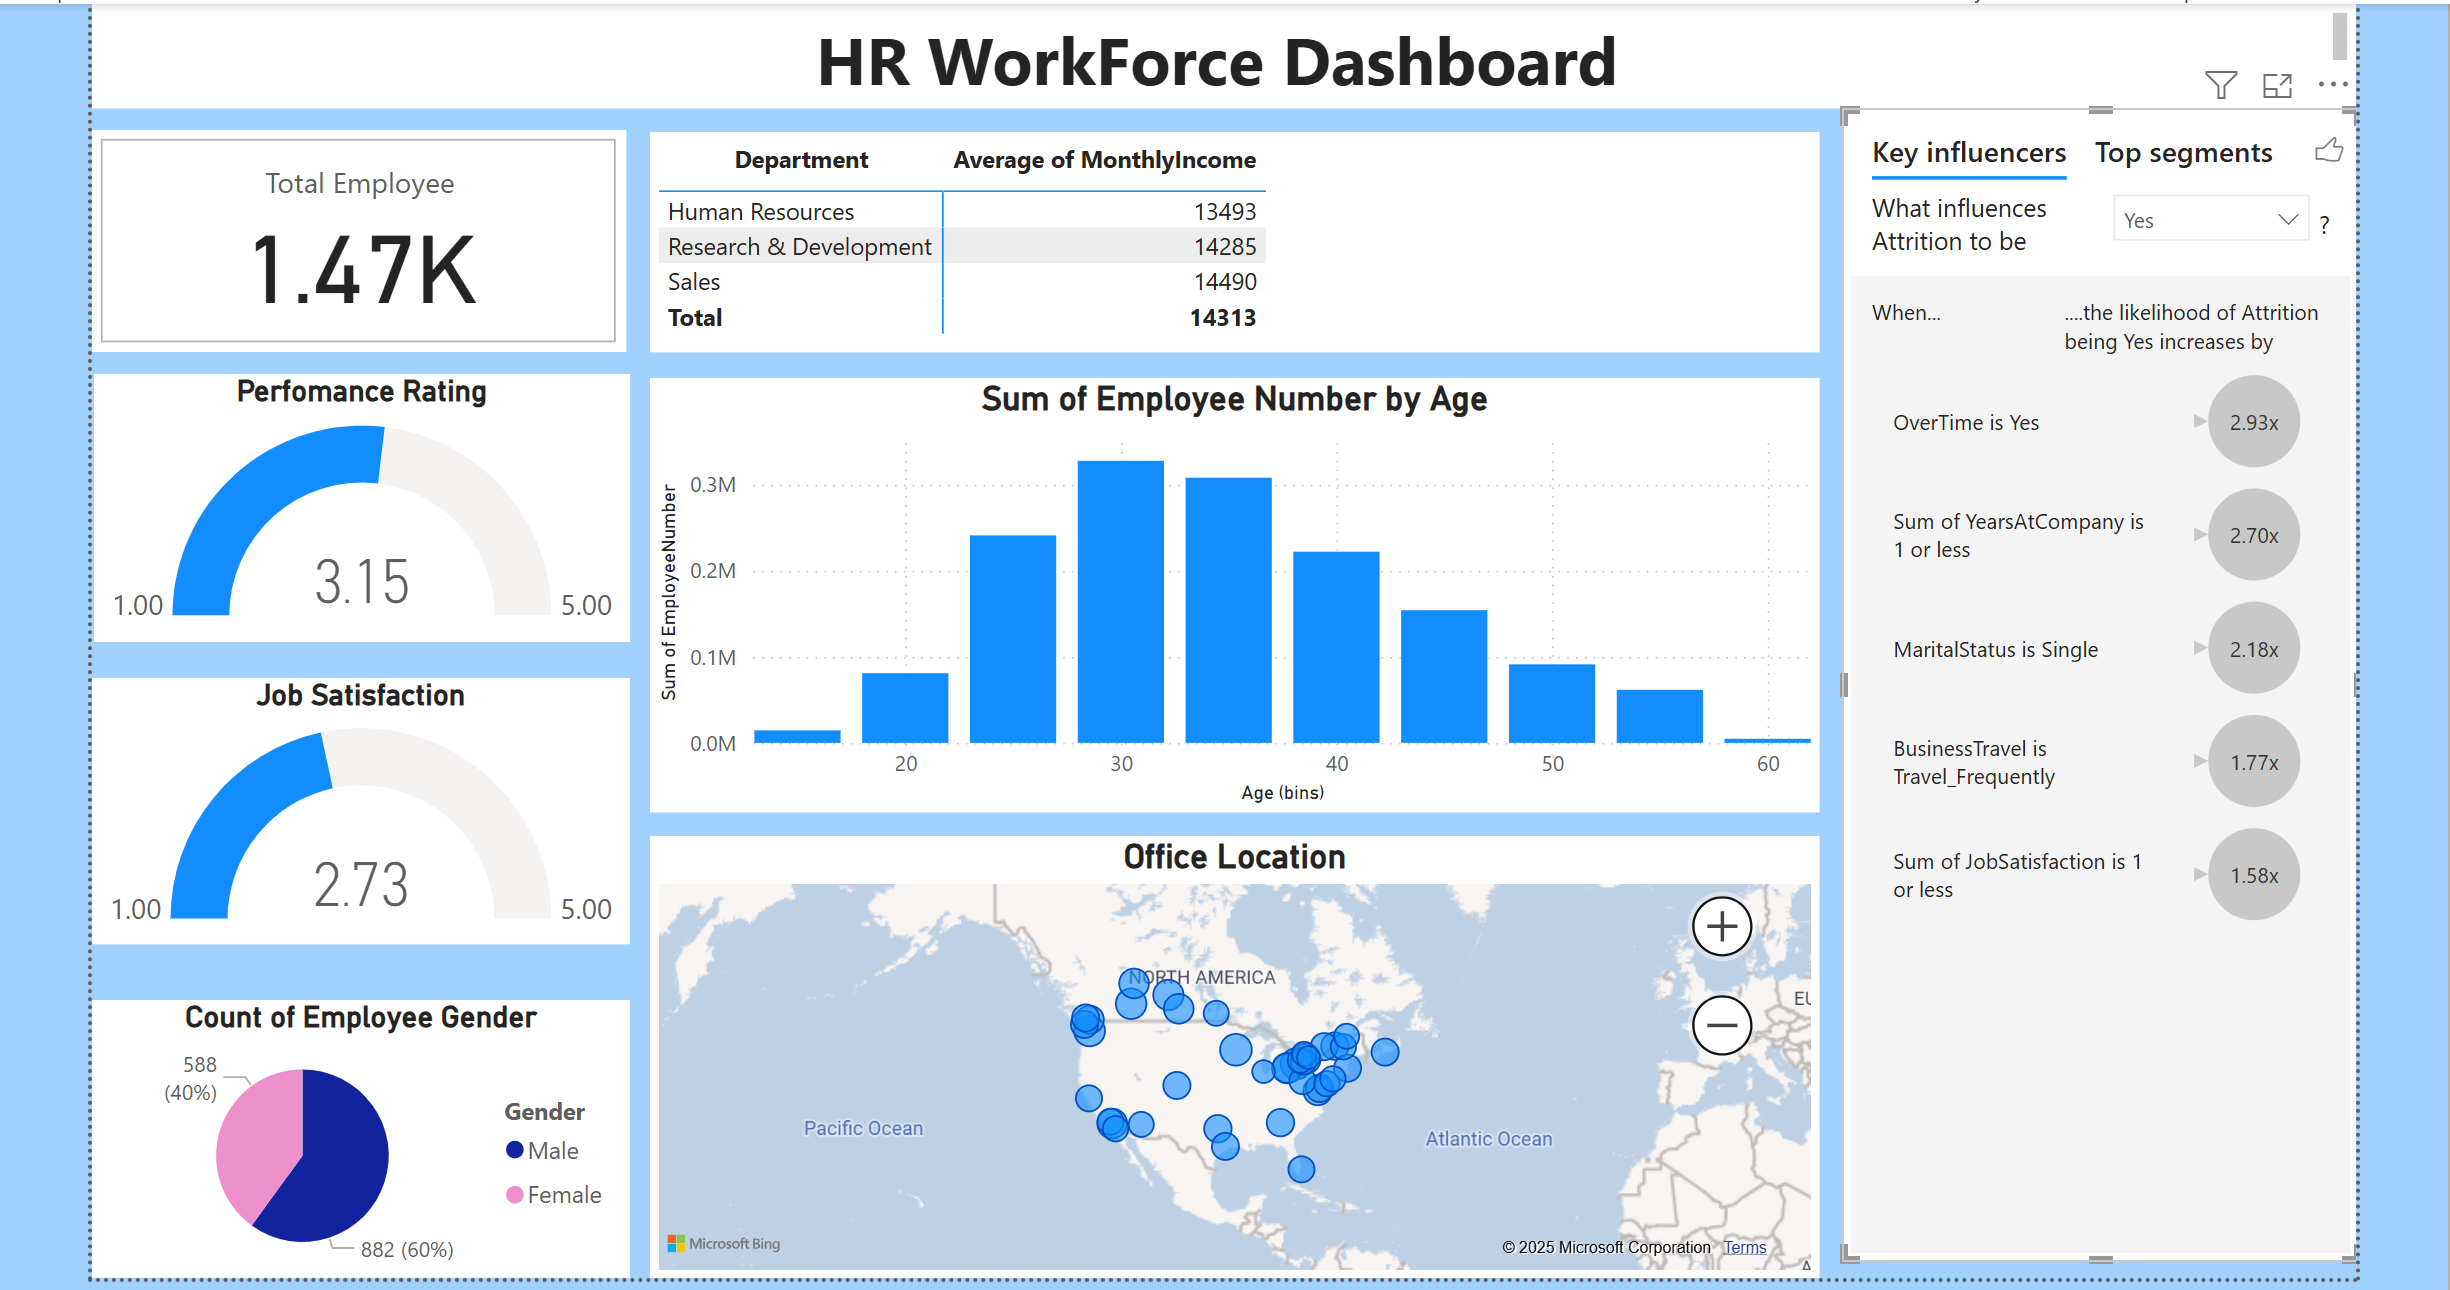

What the dashboard file says about the page in this screenshot:
{"tool":"powerbi","page":{"name":"Page 1","canvas":[1280,720],"ordinal":0},"visuals":[{"type":"cardVisual","fields":{"Data":["CountNonNull(HRIS.EmployeeNumber)"]},"box":[0,71.2,301.8,125.5],"z":1000},{"type":"pieChart","title":"Count of Employee Gender","fields":{"Category":["HRIS.Gender"],"Y":["CountNonNull(HRIS.EmployeeNumber)"]},"box":[0,562.9,304.1,157.1],"z":2000},{"type":"columnChart","title":"Sum of Employee Number by Age ","fields":{"Category":["HRIS.Age (bins)"],"Y":["Sum(HRIS.EmployeeNumber)"]},"box":[315.4,211.4,661.2,245.3],"z":3000},{"type":"pivotTable","fields":{"Rows":["HRIS.Department"],"Values":["Avg(HRIS.MonthlyIncome)"]},"box":[315.4,72.3,661.2,124.3],"z":4000},{"type":"gauge","title":"Job Satisfaction","fields":{"Y":["Avg(Engagement Survey.JobSatisfaction)"]},"box":[0,380.9,304.1,150.3],"z":4001},{"type":"gauge","title":"Perfomance Rating","fields":{"Y":["Avg(HRIS.PerformanceRating)"]},"box":[1.1,209.1,302.9,151.5],"z":4002},{"type":"textbox","box":[0,0,1279.5,58.8],"z":4003},{"type":"map","title":"Office Location","fields":{"Y":["Sheet1.Lattitude"],"Size":["CountNonNull(HRIS.EmployeeNumber)"],"X":["Sheet1.Longitude"]},"box":[315.4,470.2,661.2,249.8],"z":4004},{"type":"keyDriversVisual","fields":{"Target":["HRIS.Attrition"],"ExplainBy":["Sum(HRIS.StockOptionLevel)","Sum(HRIS.YearsAtCompany)","Sum(HRIS.PerformanceRating)","HRIS.OverTime","HRIS.MaritalStatus","HRIS.BusinessTravel","Sum(Engagement Survey.JobSatisfaction)"]},"box":[989,58.8,292.7,652.2],"z":4005}]}

Visuals, with their boxes on the page's 1280x720 design canvas (x1, y1, x2, y2). These are canvas units, not pixel positions in the 2450x1290 screenshot, which may show the page scaled, cropped or inside an application window:
cardVisual - CountNonNull(HRIS.EmployeeNumber): box=[0, 71, 302, 197]
"Count of Employee Gender" pieChart: box=[0, 563, 304, 720]
"Sum of Employee Number by Age " columnChart: box=[315, 211, 977, 457]
pivotTable - HRIS.Department x Avg(HRIS.MonthlyIncome): box=[315, 72, 977, 197]
"Job Satisfaction" gauge: box=[0, 381, 304, 531]
"Perfomance Rating" gauge: box=[1, 209, 304, 361]
textbox: box=[0, 0, 1280, 59]
"Office Location" map: box=[315, 470, 977, 720]
keyDriversVisual - HRIS.Attrition x Sum(HRIS.StockOptionLevel): box=[989, 59, 1282, 711]
